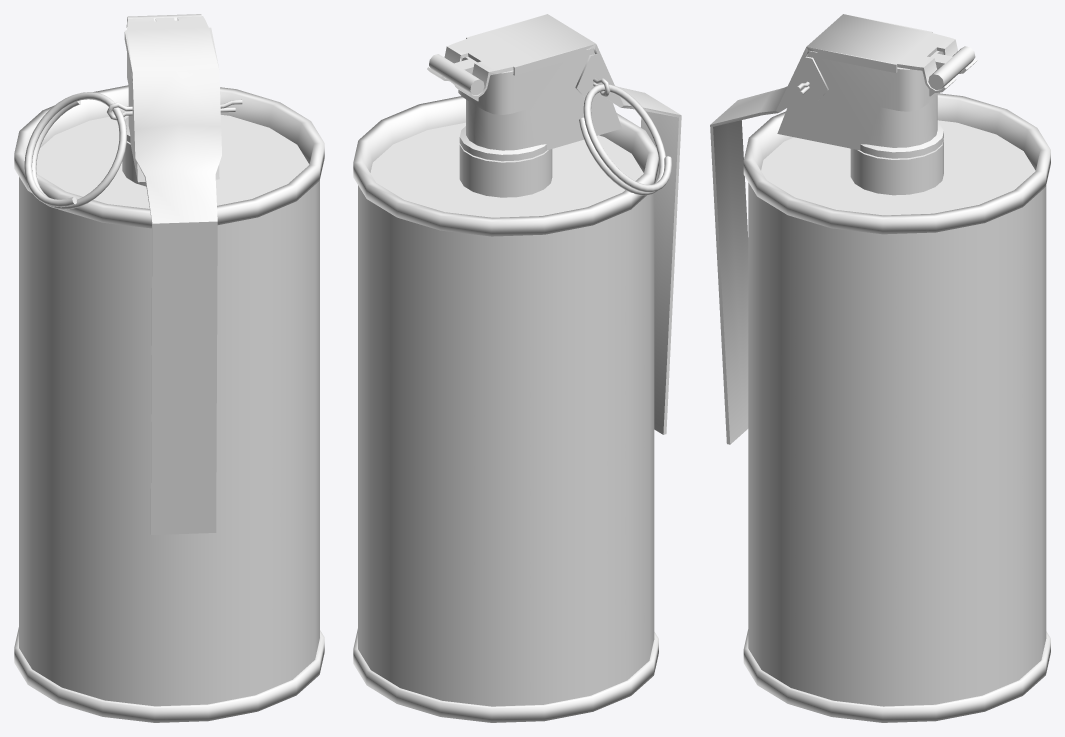
The model's file is smoke.glb.
The picture shows the model from 3 angles, left to right: view 1: azimuth 30°, elevation 25°; view 2: azimuth 150°, elevation 25°; view 3: azimuth 270°, elevation 25°; orthographic projection.
Parts seen in each view (by area): view 1: LOD0_Mono; view 2: LOD0_Mono; view 3: LOD0_Mono.
Part boxes in pixels (<box>): LOD0_Mono: <box>14,14,324,722</box>; LOD0_Mono: <box>353,14,681,722</box>; LOD0_Mono: <box>710,14,1050,722</box>.
Bounding box in the file's own units: 0.1442 × 0.3056 × 0.154.
Materials: 1 (1 with a texture image).
